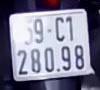0: (43, 46, 57, 72)
1: (66, 15, 76, 43)
2: (15, 48, 29, 76)
5: (20, 19, 34, 46)
8: (29, 46, 43, 75), (73, 45, 86, 70)
9: (59, 45, 72, 72), (33, 18, 45, 44)
C: (54, 15, 66, 43)
